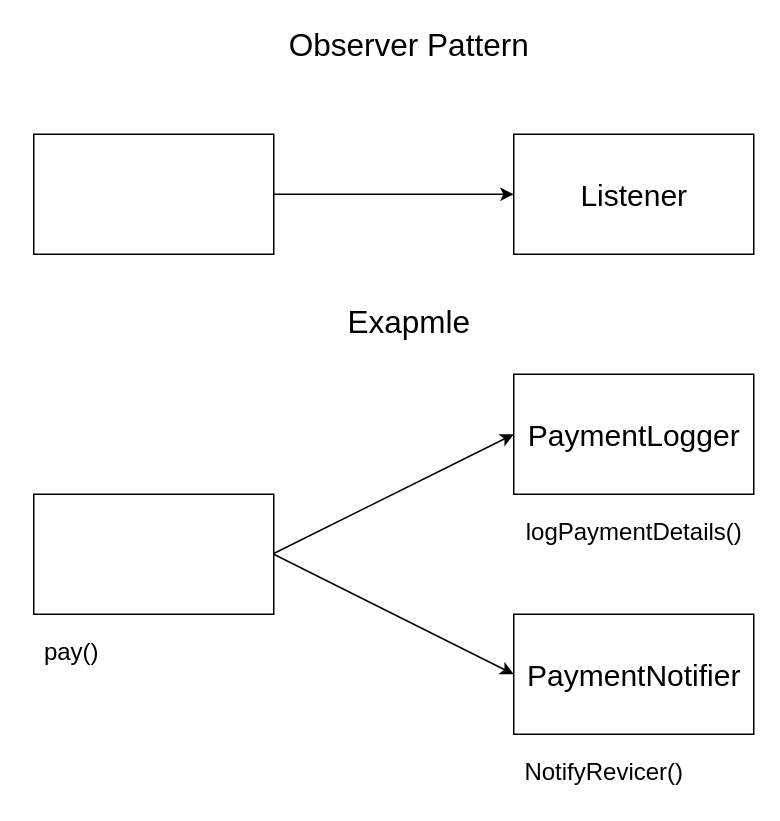
Image size: 780x821. Some labels were removed from this diagram. The centre of each missing label's shape, as x and y in pixels:
"PaymentManager" belongs at (x=153, y=553).
"Subject" belongs at (x=153, y=193).
